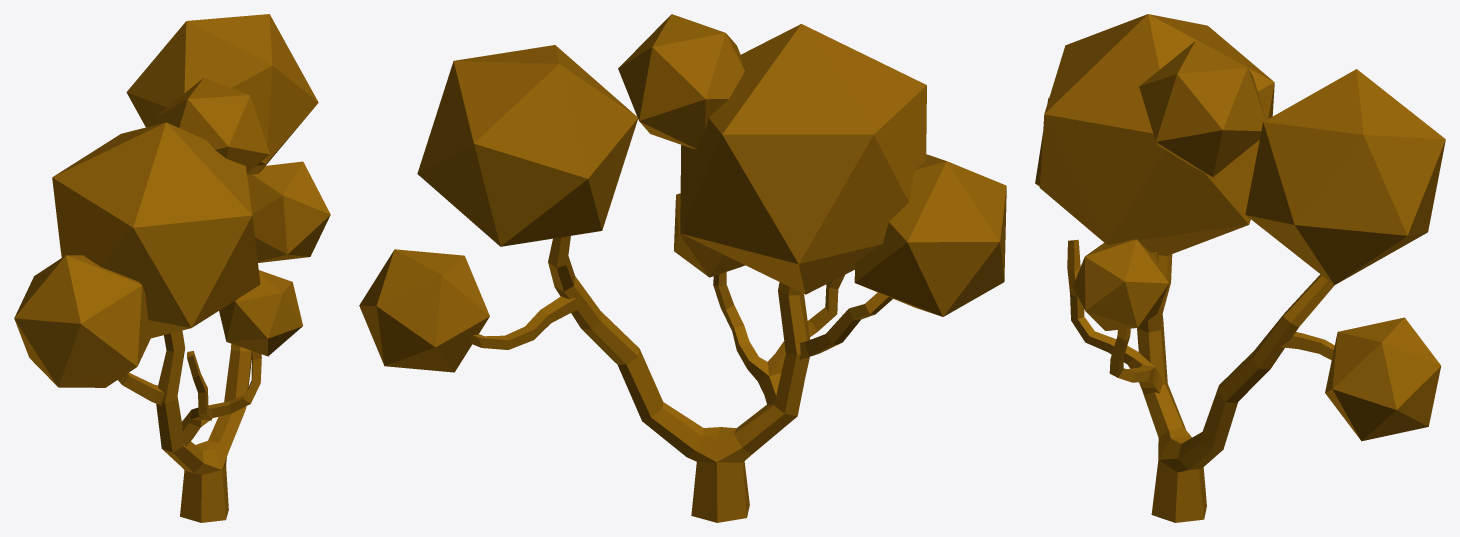
3 views of the same model, side by side, from view 1: azimuth 30°, elevation 25°; view 2: azimuth 150°, elevation 25°; view 3: azimuth 270°, elevation 25° (orthographic). The views are drawn at different scales.
Visible parts, largest first — view 1: Tree_lp_11; view 2: Tree_lp_11; view 3: Tree_lp_11.
Boxes of the visible parts, x1=… form: Tree_lp_11: x1=14, y1=14, x2=330, y2=522; Tree_lp_11: x1=359, y1=14, x2=1006, y2=522; Tree_lp_11: x1=1035, y1=14, x2=1445, y2=522.
Bounding box in the file's own units: 1.08 × 1.02 × 0.8021.
